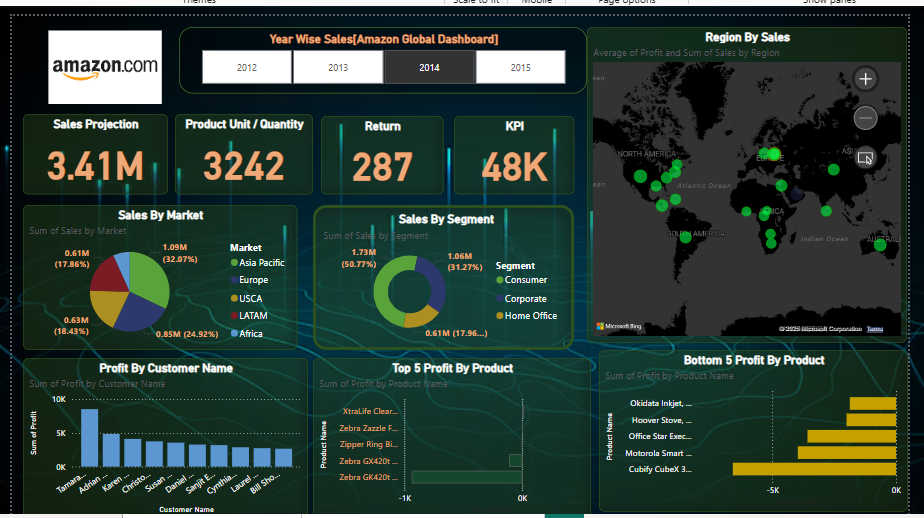

The page's visual inventory and layout, read from the dashboard file:
{"tool":"powerbi","page":{"name":"Amazon Sales Dashboard","canvas":[1280,720],"ordinal":0},"visuals":[{"type":"slicer","title":"Year Wise Sales[Amazon Global Dashboard]","fields":{"Values":["Orders.Custom"]},"box":[238.3,15,583.3,95],"z":0},{"type":"card","title":"Sales Projection","fields":{"Values":["Orders.Sales"]},"box":[15,140,206.7,115],"z":1000},{"type":"image","box":[0,15,265,115],"z":2000},{"type":"card","title":"Return","fields":{"Values":["Returns.return"]},"box":[441.7,143.3,175,111.7],"z":3000},{"type":"card","title":"Product Unit / Quantity","fields":{"Values":["Orders.Product Name"]},"box":[233.3,140,196.7,115],"z":4000},{"type":"card","title":"KPI","fields":{"Values":["Orders.Quantity"]},"box":[631.7,143.3,171.7,111.7],"z":5000},{"type":"donutChart","title":"Sales By Segment","fields":{"Y":["Orders.Sales"],"Category":["Orders.Segment"]},"box":[430,270,373.3,206.7],"z":6000},{"type":"pieChart","title":"Sales By Market","fields":{"Y":["Orders.Sales"],"Category":["Orders.Market"]},"box":[15,270,391.7,206.7],"z":7000},{"type":"columnChart","title":"Profit By Customer Name","fields":{"Y":["Orders.Profit"],"Category":["Orders.Customer Name"]},"box":[15.7,488.6,407.1,231.4],"z":9000},{"type":"clusteredBarChart","title":"Bottom 5 Profit By Product","fields":{"Category":["Orders.Product Name"],"Y":["Orders.Profit"]},"box":[838.6,477.1,441.4,231.4],"z":9001},{"type":"clusteredBarChart","title":"Top 5 Profit By Product ","fields":{"Category":["Orders.Product Name"],"Y":["Orders.Profit"]},"box":[430,488.6,397.1,231.4],"z":9002},{"type":"map","title":"Region By Sales ","fields":{"Category":["People.Region"],"Size":["Orders.Sales"],"Y":["Orders.Profit"]},"box":[821.4,15.7,457.1,451.4],"z":9003}]}

Visuals, with their boxes on the page's 1280x720 design canvas (x1, y1, x2, y2). These are canvas units, not pixel positions in the 924x518 screenshot, which may show the page scaled, cropped or inside an application window:
"Year Wise Sales[Amazon Global Dashboard]" slicer: <bbox>238, 15, 822, 110</bbox>
"Sales Projection" card: <bbox>15, 140, 222, 255</bbox>
image: <bbox>0, 15, 265, 130</bbox>
"Return" card: <bbox>442, 143, 617, 255</bbox>
"Product Unit / Quantity" card: <bbox>233, 140, 430, 255</bbox>
"KPI" card: <bbox>632, 143, 803, 255</bbox>
"Sales By Segment" donutChart: <bbox>430, 270, 803, 477</bbox>
"Sales By Market" pieChart: <bbox>15, 270, 407, 477</bbox>
"Profit By Customer Name" columnChart: <bbox>16, 489, 423, 720</bbox>
"Bottom 5 Profit By Product" clusteredBarChart: <bbox>839, 477, 1280, 708</bbox>
"Top 5 Profit By Product " clusteredBarChart: <bbox>430, 489, 827, 720</bbox>
"Region By Sales " map: <bbox>821, 16, 1278, 467</bbox>
